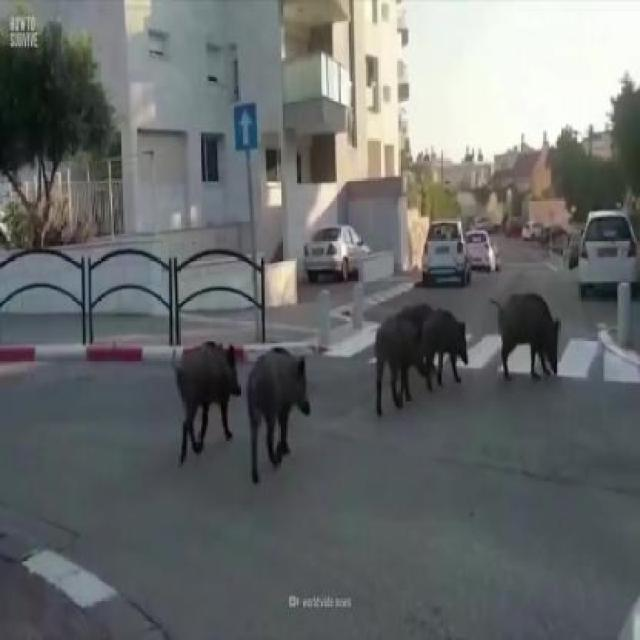Boar: (244, 336, 322, 502), (179, 314, 246, 469), (486, 288, 579, 390), (360, 300, 422, 428), (426, 303, 471, 397)
